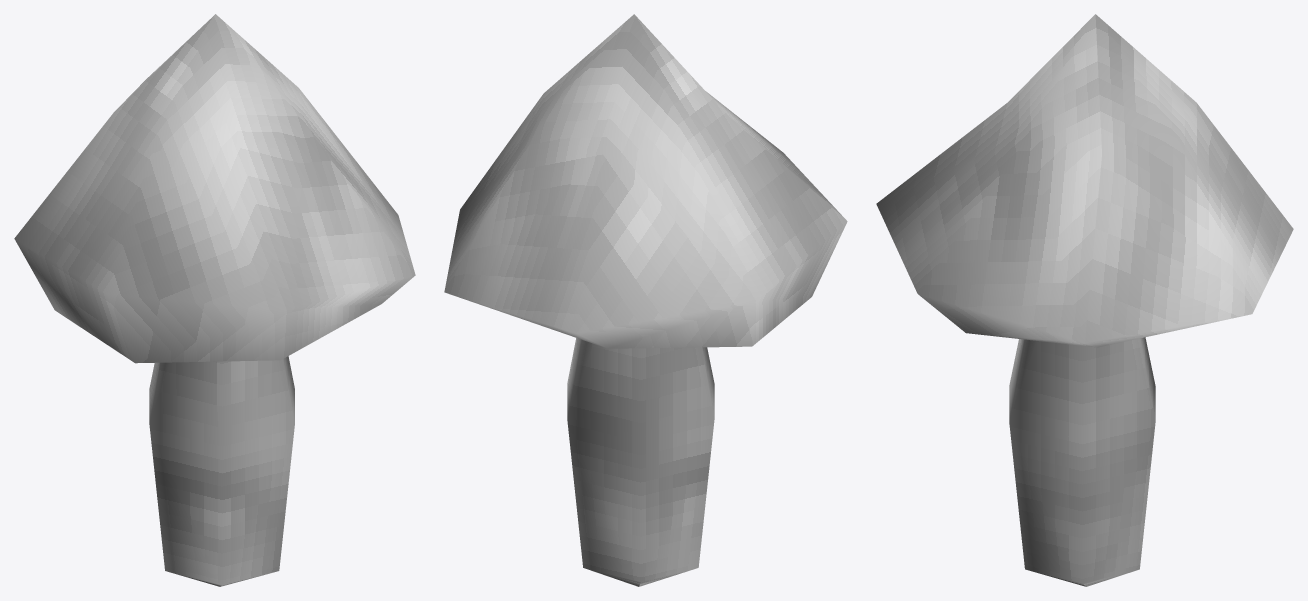
The model's file is fungus05.obj.
The picture shows the model from 3 angles, left to right: view 1: azimuth 30°, elevation 25°; view 2: azimuth 150°, elevation 25°; view 3: azimuth 270°, elevation 25°; orthographic projection.
Parts seen in each view (by area): view 1: Sphere02, Cylinder03; view 2: Sphere02, Cylinder03; view 3: Sphere02, Cylinder03.
Part boxes in pixels (x1,y1,x2,y2): Sphere02: (14,14,415,363); Cylinder03: (149,356,294,586); Sphere02: (444,14,847,348); Cylinder03: (567,338,714,586); Sphere02: (876,14,1293,347); Cylinder03: (1009,337,1155,586).
Size of the model in its own units: 18.57 by 29.91 by 19.76.
